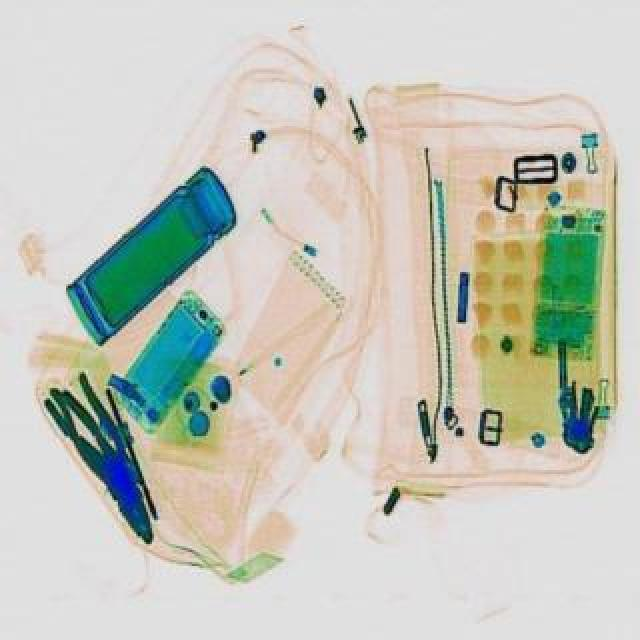wrench: (42, 368, 170, 548)
